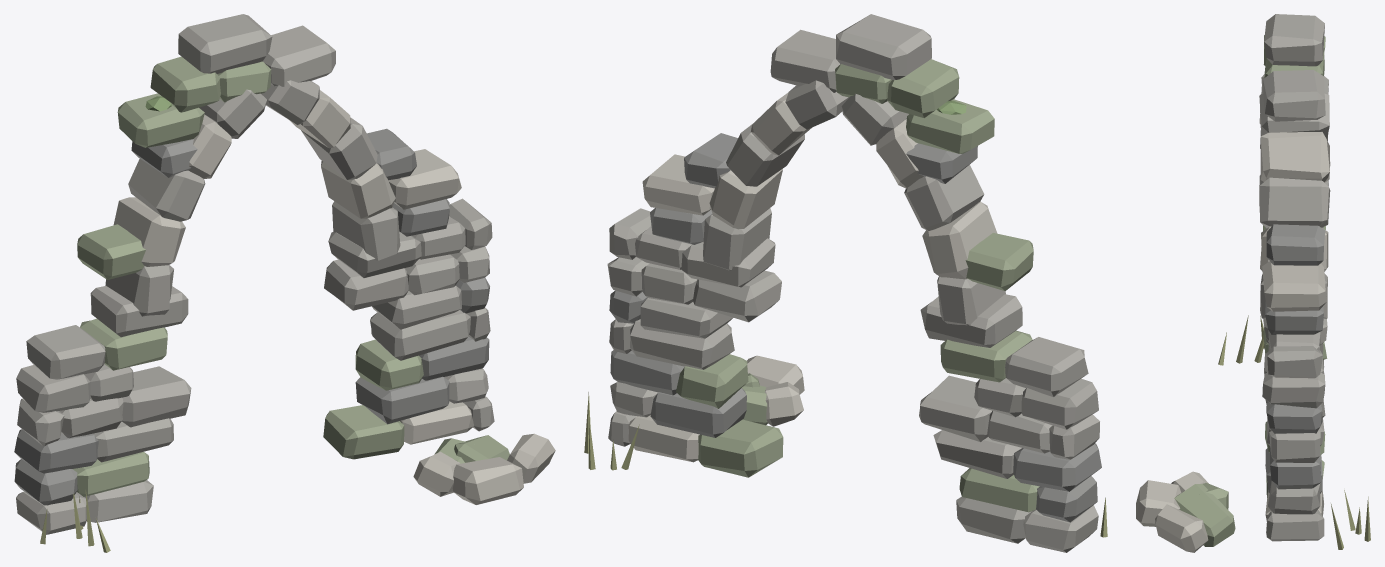
Rendered from Ruin_Arch_Gate.fbx.
The picture shows the model from 3 angles, left to right: view 1: azimuth 30°, elevation 25°; view 2: azimuth 150°, elevation 25°; view 3: azimuth 270°, elevation 25°; orthographic projection. The views are drawn at different scales.
Parts seen in each view (by area): view 1: Ruin_Arch_Gate; view 2: Ruin_Arch_Gate; view 3: Ruin_Arch_Gate.
Part boxes in pixels (x1=…): Ruin_Arch_Gate: x1=14, y1=14, x2=555, y2=552; Ruin_Arch_Gate: x1=584, y1=14, x2=1107, y2=552; Ruin_Arch_Gate: x1=1136, y1=14, x2=1370, y2=552.
Bounding box in the file's own units: 5.2 × 4.98 × 2.52.
